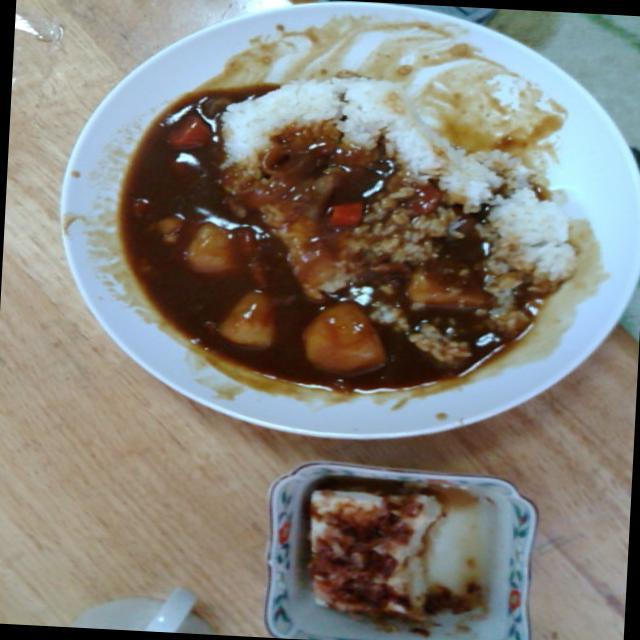Beef Curry: (103, 158, 508, 412)
